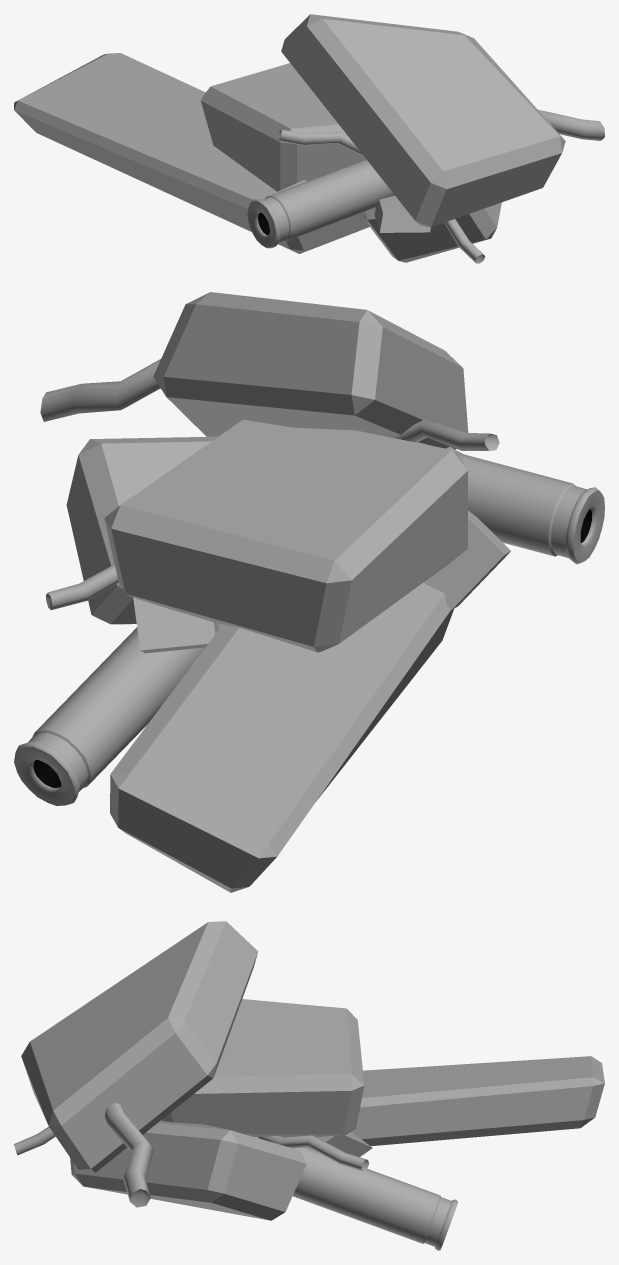
The model's file is prop_rubble3.fbx.
3 renders of one model, top to bottom at view 1: azimuth 30°, elevation 25°; view 2: azimuth 150°, elevation 25°; view 3: azimuth 270°, elevation 25°, orthographic. The views are drawn at different scales.
Parts seen in each view (by area): view 1: prop_rubble8; view 2: prop_rubble8; view 3: prop_rubble8.
Boxes of the visible parts, x1,y1,x2,y2 form: prop_rubble8: [14, 14, 604, 263]; prop_rubble8: [14, 292, 604, 892]; prop_rubble8: [14, 921, 604, 1250].
Size of the model in its own units: 537 by 372 by 717.
